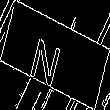N_N: (36, 25, 74, 85)
